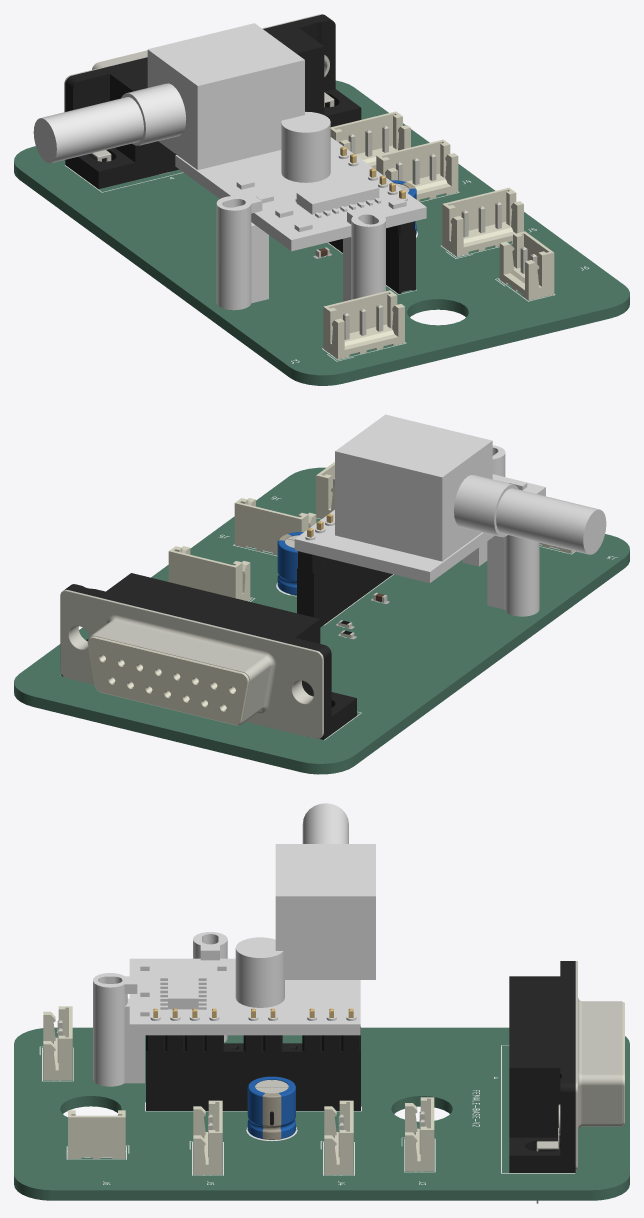
The model's file is female-base-v2.glb.
3 views of the same model, one above another, from view 1: azimuth 30°, elevation 25°; view 2: azimuth 150°, elevation 25°; view 3: azimuth 270°, elevation 25° (orthographic).
Visible parts, largest first — view 1: =>[0:1:1:17], M1 (×2), J7, H1, J3, J5, H2, J4, J6, J2, =>[0:1:1:15]; view 2: =>[0:1:1:17], M1 (×3), J7, H1, J4, J5, C1, J6, H2; view 3: =>[0:1:1:17], M1 (×5), J7, H2, C1, J6, J3, J2, J4, J5, =>[0:1:1:15], H1.
Part boxes in pixels (left/top/right/bottom): =>[0:1:1:17]: left=14, top=80, right=629, bottom=385; M1 (×2): left=33, top=23, right=426, bottom=293; J7: left=64, top=14, right=361, bottom=189; H1: left=216, top=194, right=268, bottom=310; J3: left=323, top=290, right=404, bottom=359; J5: left=442, top=187, right=523, bottom=256; H2: left=343, top=207, right=385, bottom=301; J4: left=376, top=139, right=458, bottom=201; J6: left=499, top=231, right=554, bottom=300; J2: left=330, top=111, right=410, bottom=169; =>[0:1:1:15]: left=65, top=165, right=589, bottom=363; =>[0:1:1:17]: left=14, top=467, right=629, bottom=774; M1 (×3): left=294, top=414, right=606, bottom=627; J7: left=60, top=573, right=356, bottom=739; H1: left=487, top=535, right=539, bottom=616; J4: left=168, top=546, right=250, bottom=600; J5: left=234, top=498, right=316, bottom=555; C1: left=277, top=532, right=303, bottom=594; J6: left=316, top=462, right=334, bottom=518; H2: left=462, top=445, right=505, bottom=566; =>[0:1:1:17]: left=14, top=1027, right=629, bottom=1200; M1 (×5): left=129, top=803, right=375, bottom=1110; J7: left=509, top=961, right=624, bottom=1203; H2: left=93, top=973, right=144, bottom=1086; C1: left=247, top=1076, right=295, bottom=1139; J6: left=68, top=1110, right=125, bottom=1158; J3: left=43, top=1006, right=72, bottom=1080; J2: left=405, top=1097, right=434, bottom=1171; J4: left=324, top=1100, right=353, bottom=1174; J5: left=193, top=1100, right=222, bottom=1174; =>[0:1:1:15]: left=39, top=1029, right=575, bottom=1185; H1: left=193, top=932, right=227, bottom=1042.
Bounding box in the file's own units: 0.066 × 0.033 × 0.08.
